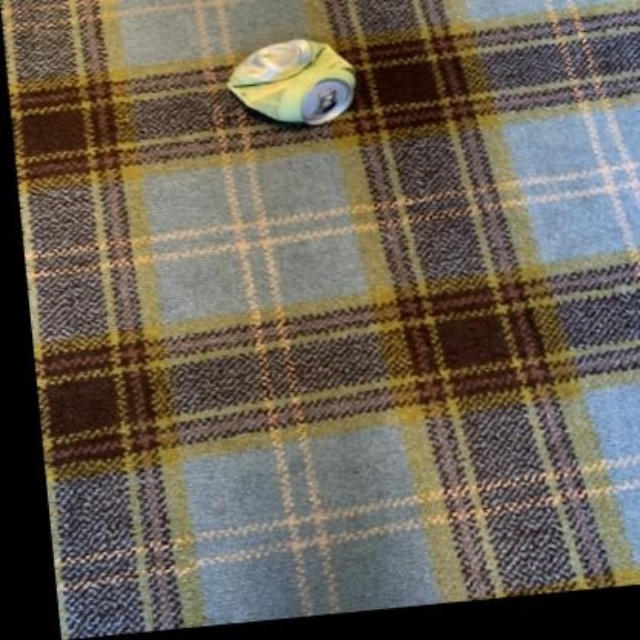trash: (228, 40, 354, 123)
